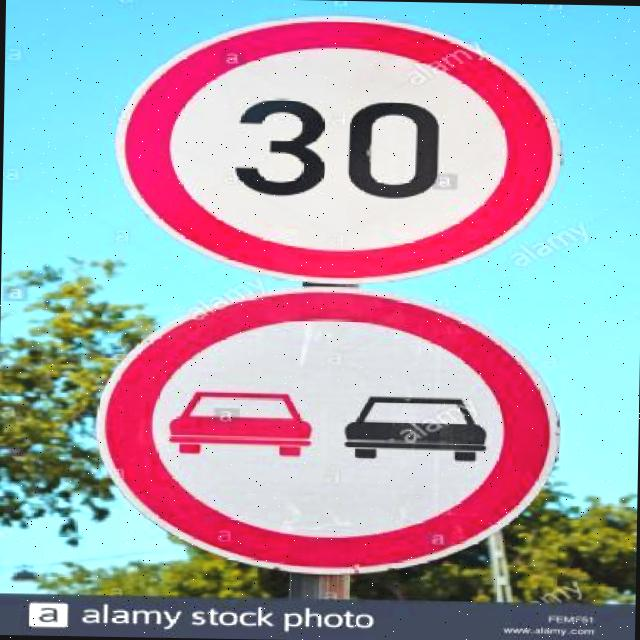Ograniczenie predkosci do 30: (118, 16, 552, 286)
